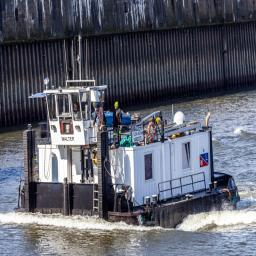tugboat: (14, 35, 242, 240)
